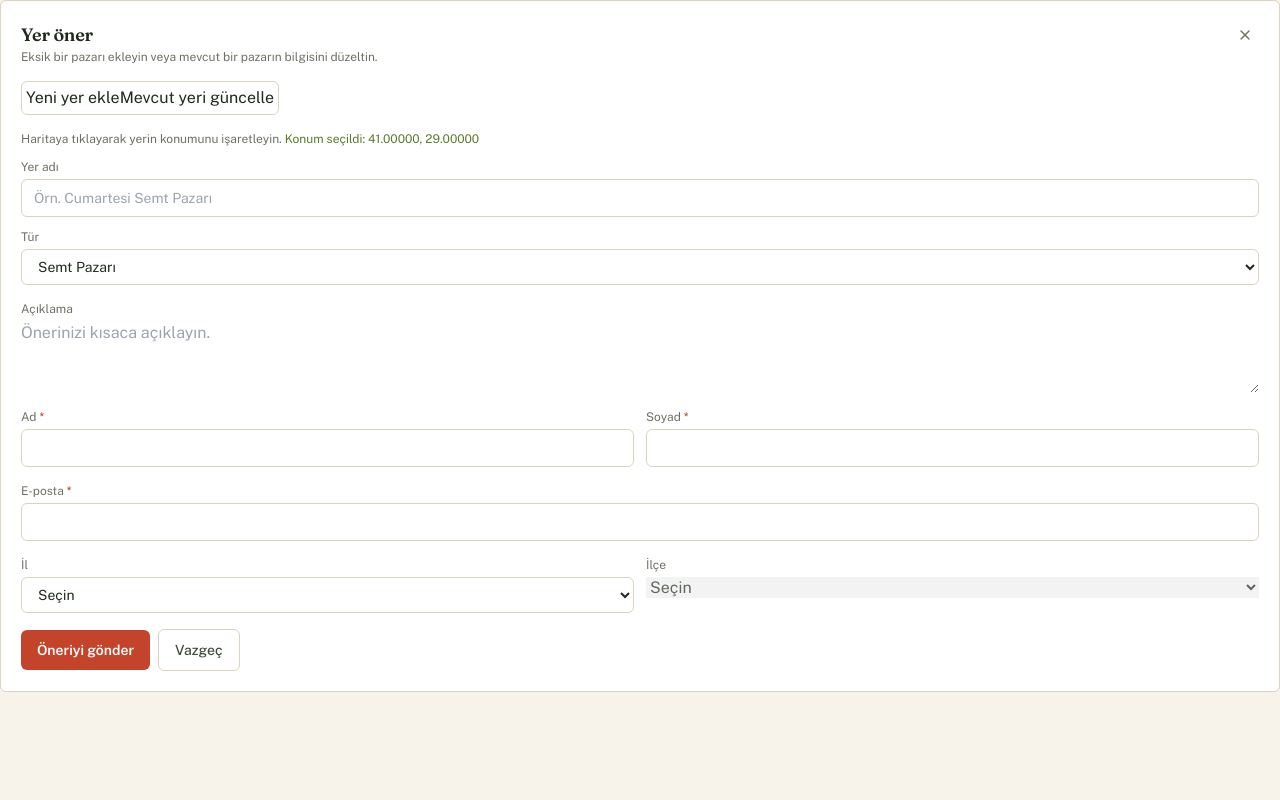
Test: SuggestionForm › submits an add suggestion and confirms success
Type "Ada" into the field labelled "Ad *" at (328, 448), box [21,429,634,467]
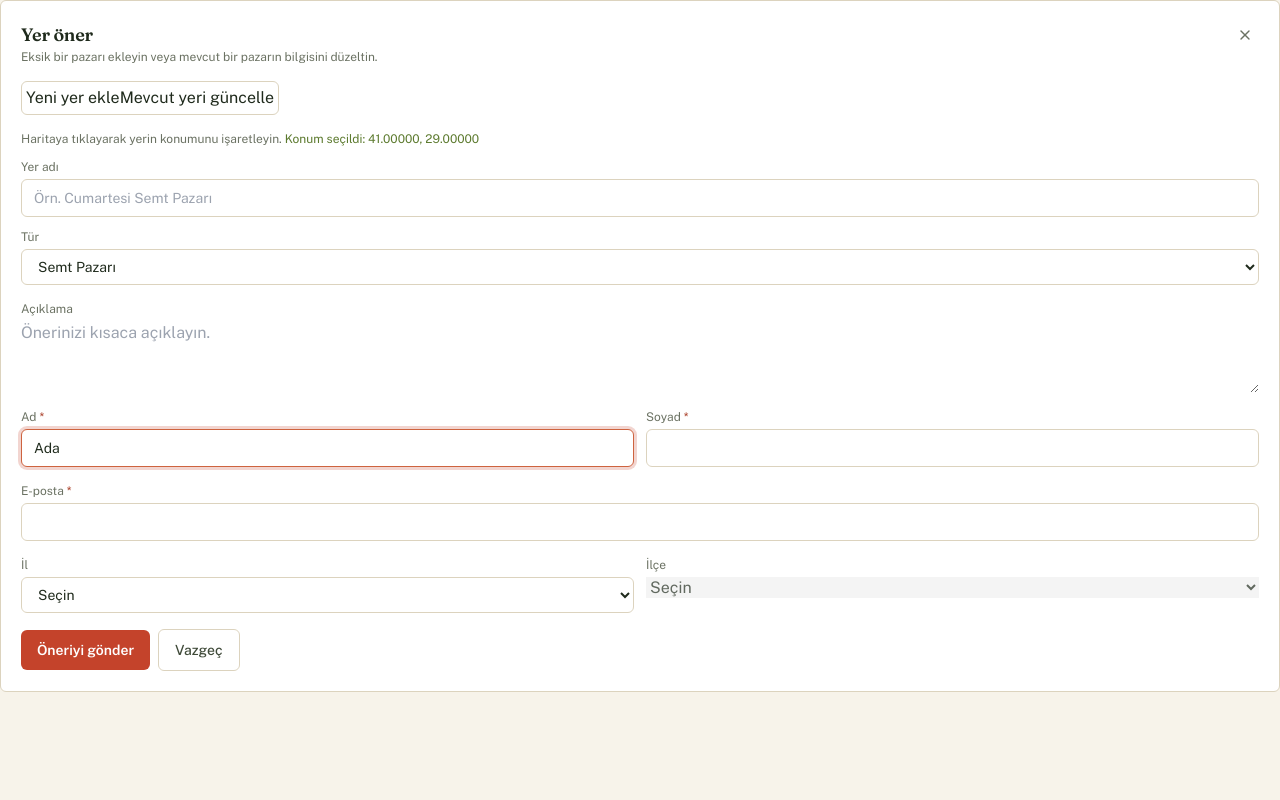
Type "Yılmaz" into the field labelled "Soyad *" at (952, 448), box [646,429,1259,467]
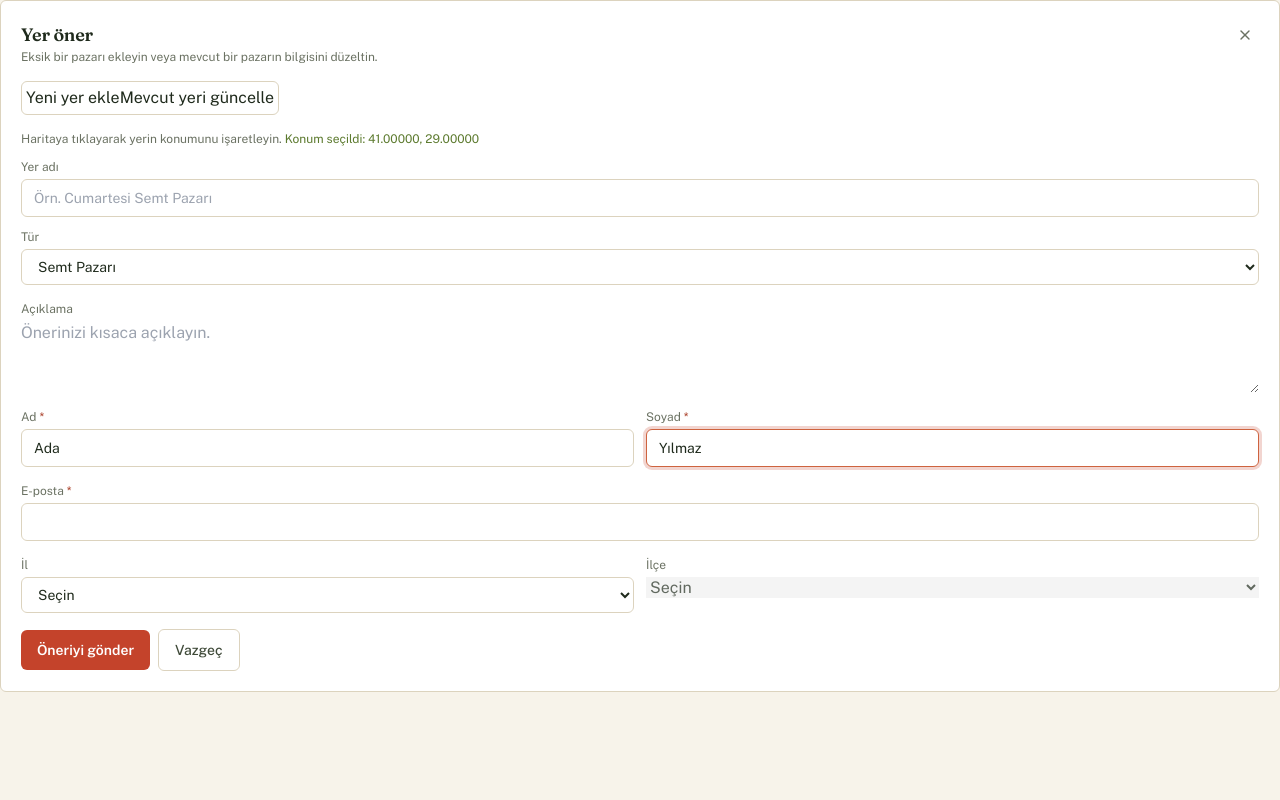
Type "ada@example.com" into the field labelled "E-posta *" at (640, 522), box [21,503,1259,541]
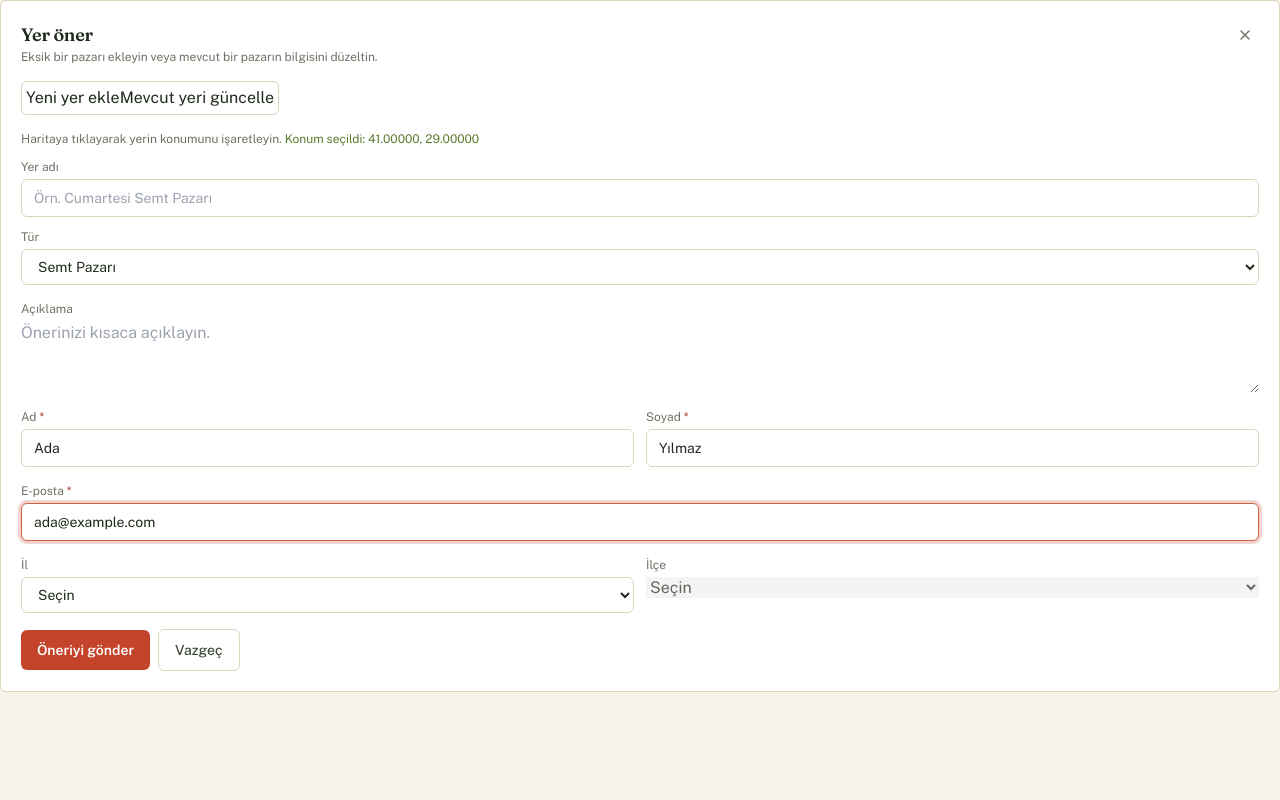
Type "Yeni Pazar" into the field labelled "Yer adı" at (640, 198), box [21,179,1259,217]
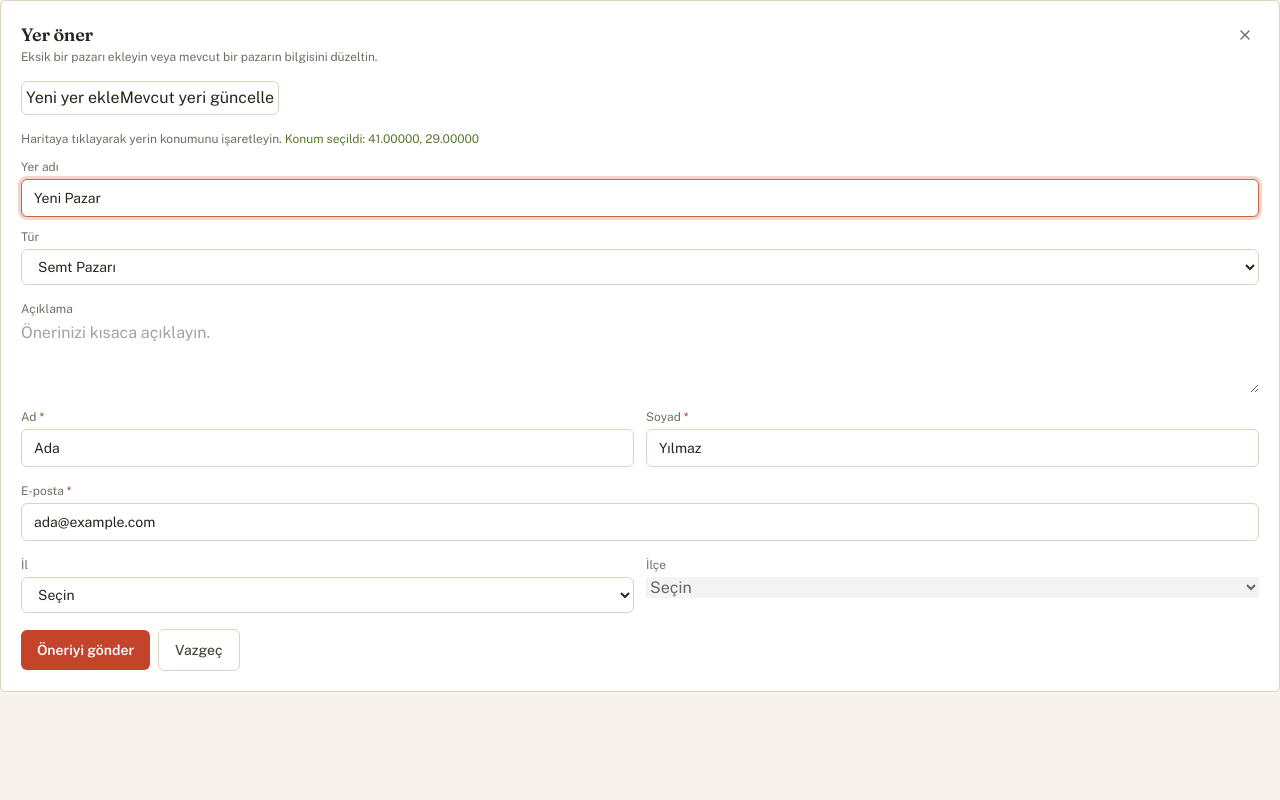
Type "Burada büyük bir pazar var." into the text box labelled "Açıklama" at (640, 357), box [21,321,1259,393]
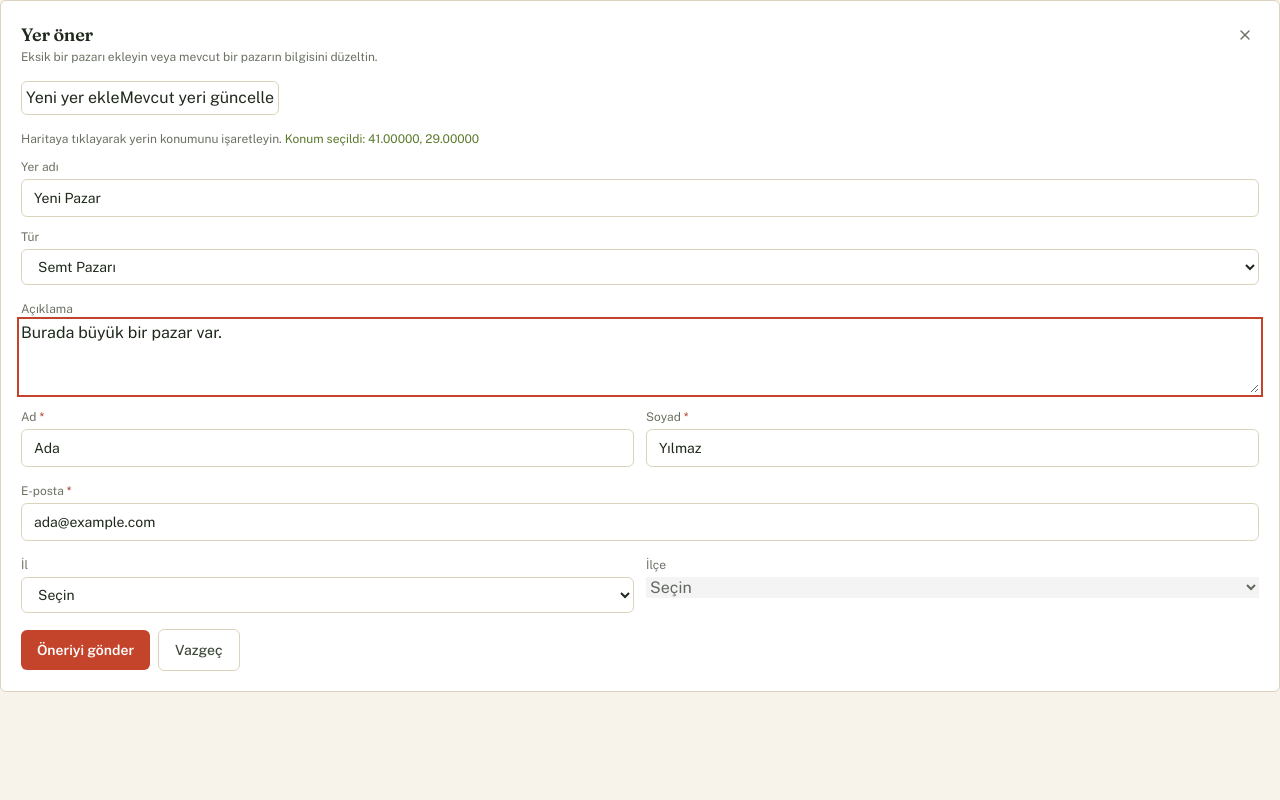
Click the button "Öneriyi gönder" at (86, 650), box [21,630,150,670]
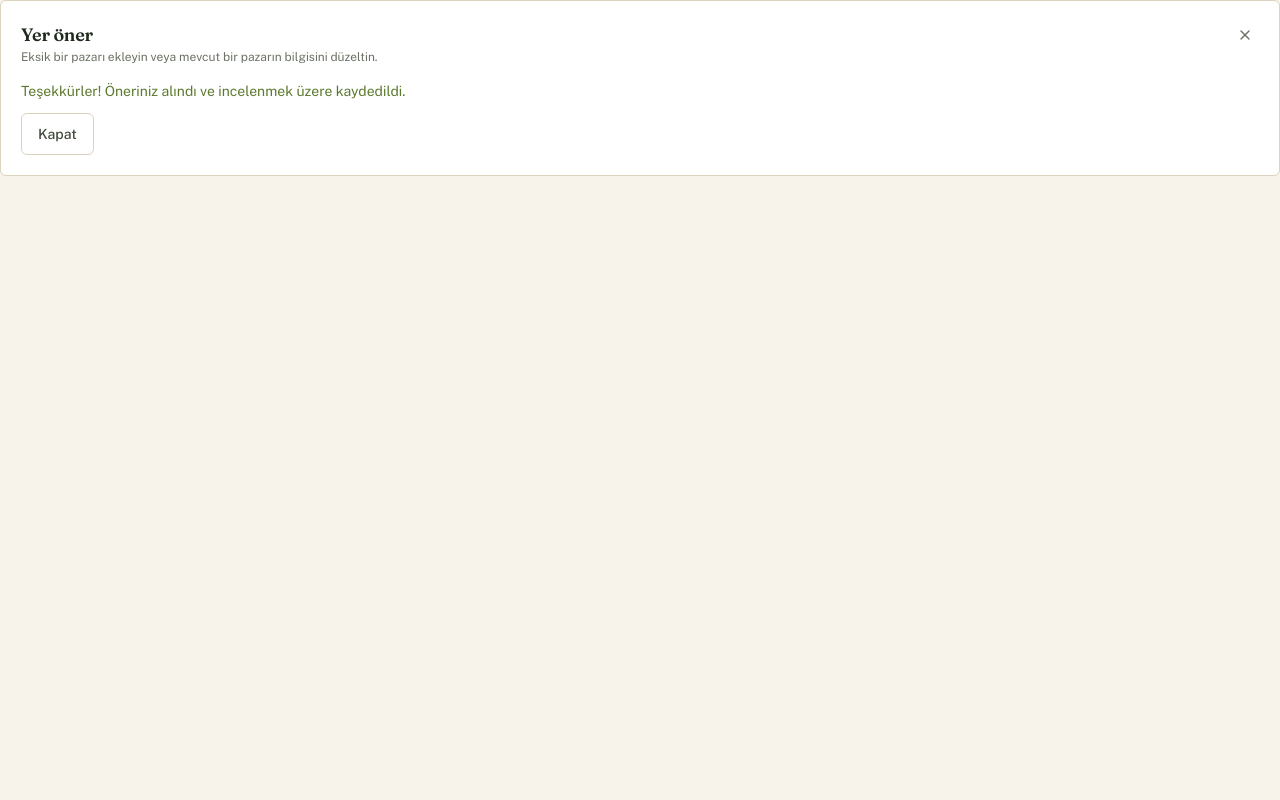
Result: the text "Teşekkürler! Öneriniz alındı ve incelenmek üzere kaydedildi." is shown at [21,83,405,99]
